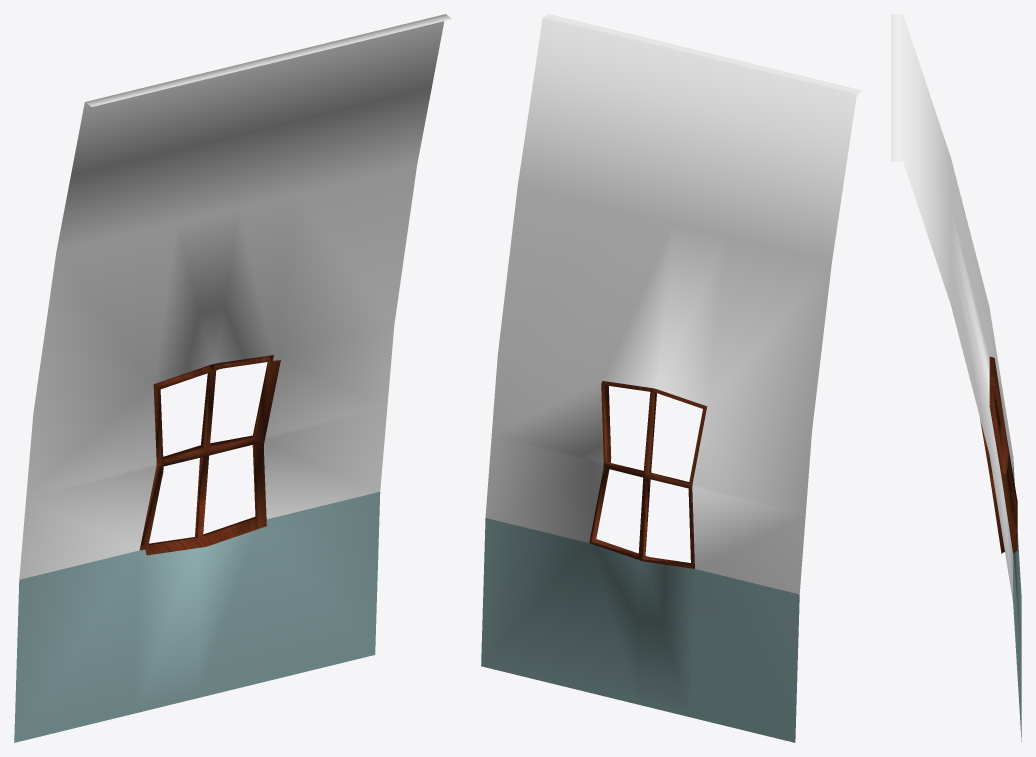
The model's file is wall_window_tall_test.fbx.
3 renders of one model, left to right at view 1: azimuth 30°, elevation 25°; view 2: azimuth 150°, elevation 25°; view 3: azimuth 270°, elevation 25°, orthographic. The views are drawn at different scales.
Visible parts, largest first — view 1: windowWall_tall_test; view 2: windowWall_tall_test; view 3: windowWall_tall_test.
Part boxes in pixels (<box>): windowWall_tall_test: <box>14,14,451,742</box>; windowWall_tall_test: <box>481,14,862,742</box>; windowWall_tall_test: <box>891,14,1021,741</box>.
Size of the model in its own units: 3 by 5.5 by 1.12.
